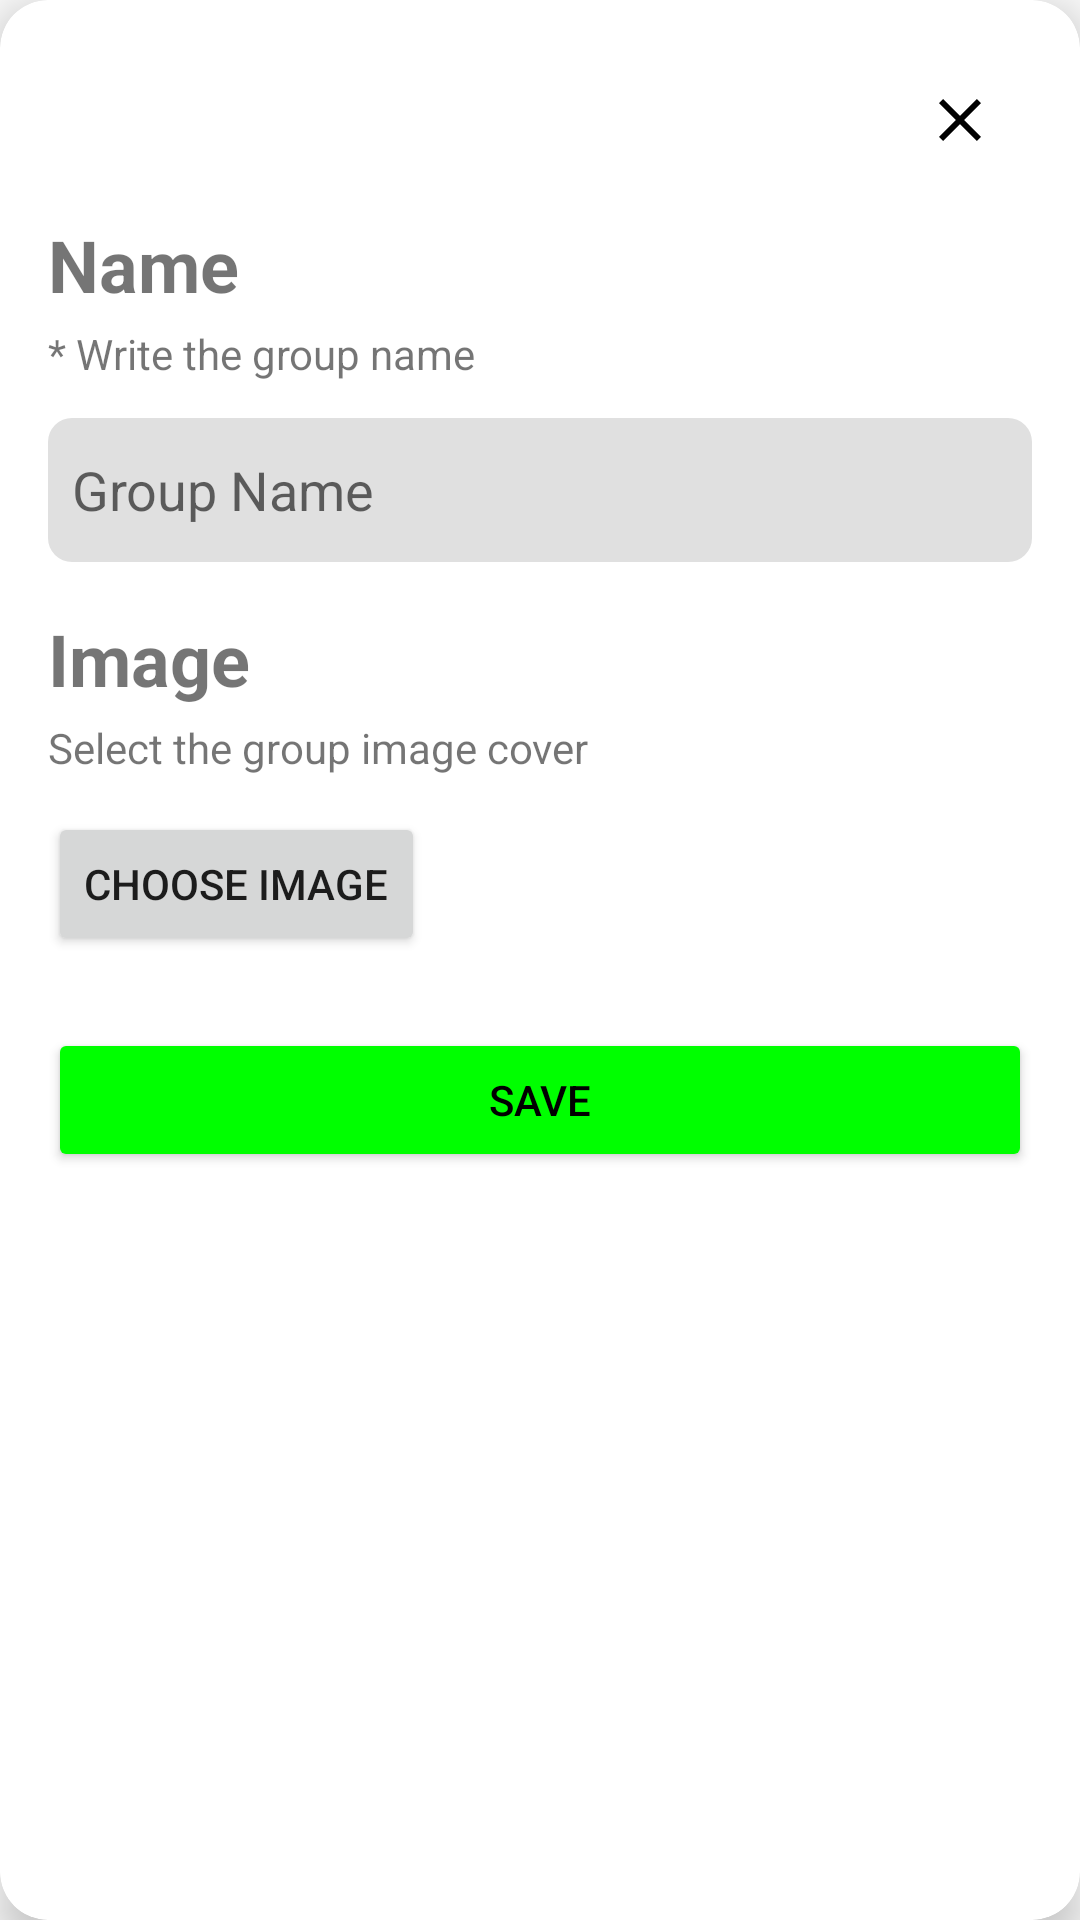

Where to tap for icons on this 1080x1920 app screen, as (x=x, y=y):
close modal button: (x=960, y=120)
